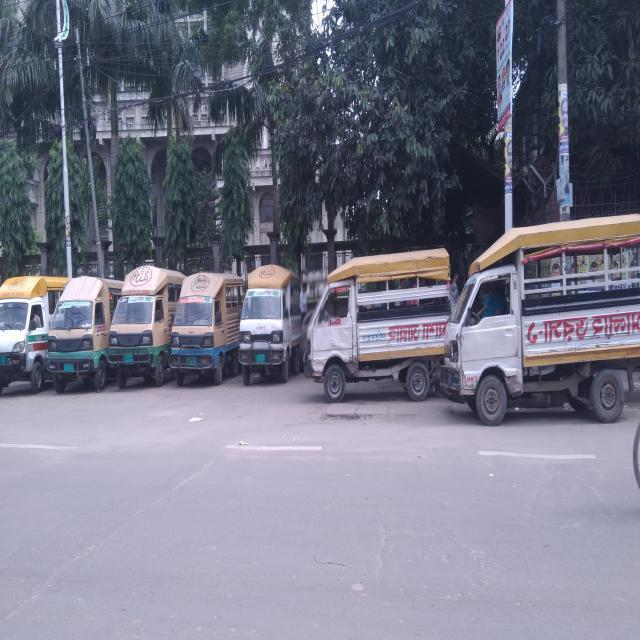Leguna: (437, 185, 640, 452), (299, 237, 469, 411), (95, 252, 201, 410), (37, 252, 150, 400), (157, 262, 248, 410), (228, 252, 309, 394), (1, 258, 78, 402)
